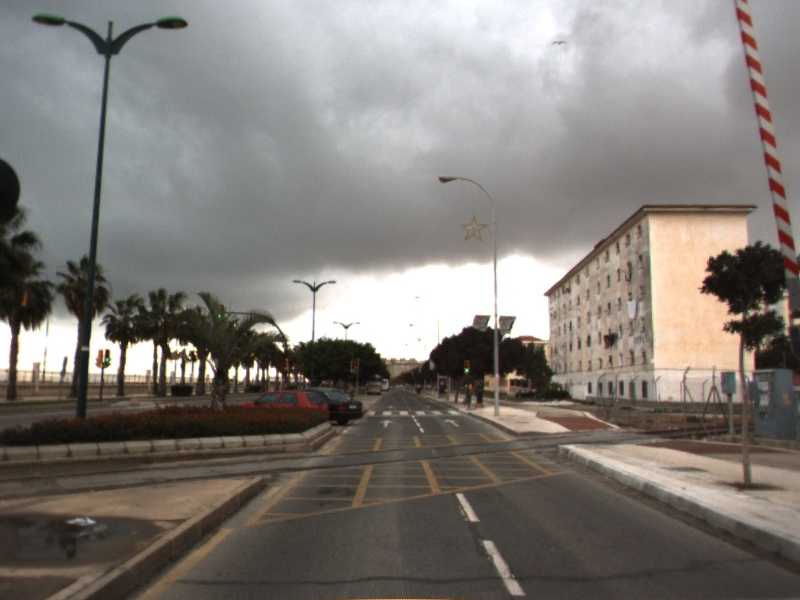STRAIGHT: (442, 417, 463, 429), (377, 418, 396, 429)
